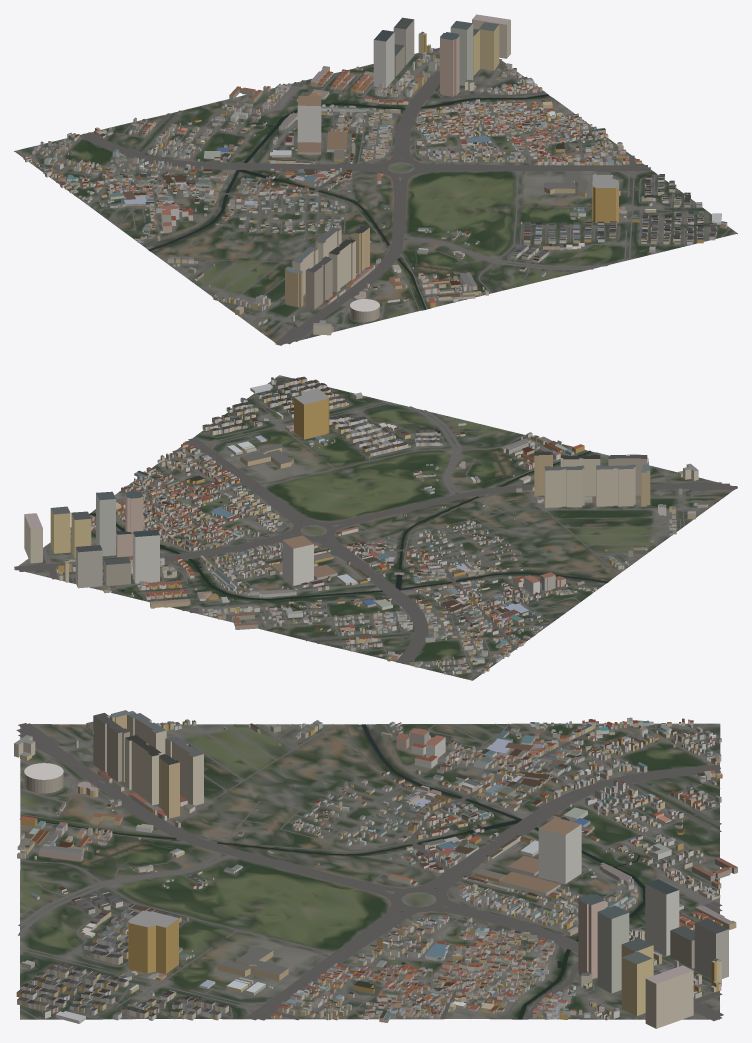
3 views of the same model, one above another, from view 1: azimuth 30°, elevation 25°; view 2: azimuth 150°, elevation 25°; view 3: azimuth 270°, elevation 25° (orthographic). The views are drawn at different scales.
Parts seen in each view (by area): view 1: ground, buildings, roads, water; view 2: ground, buildings, roads, water; view 3: ground, buildings, roads, water.
Boxes of the visible parts, <box> form: ground: <box>14,47,737,345</box>; buildings: <box>23,14,727,335</box>; roads: <box>21,48,730,345</box>; water: <box>148,67,548,309</box>; ground: <box>14,375,737,680</box>; buildings: <box>24,376,708,674</box>; roads: <box>14,379,737,675</box>; water: <box>89,451,607,609</box>; ground: <box>20,723,720,1019</box>; buildings: <box>14,710,737,1028</box>; roads: <box>16,723,723,1021</box>; water: <box>20,724,645,1019</box>.
Bounding box in the file's own units: 1451 × 169 × 1450.
